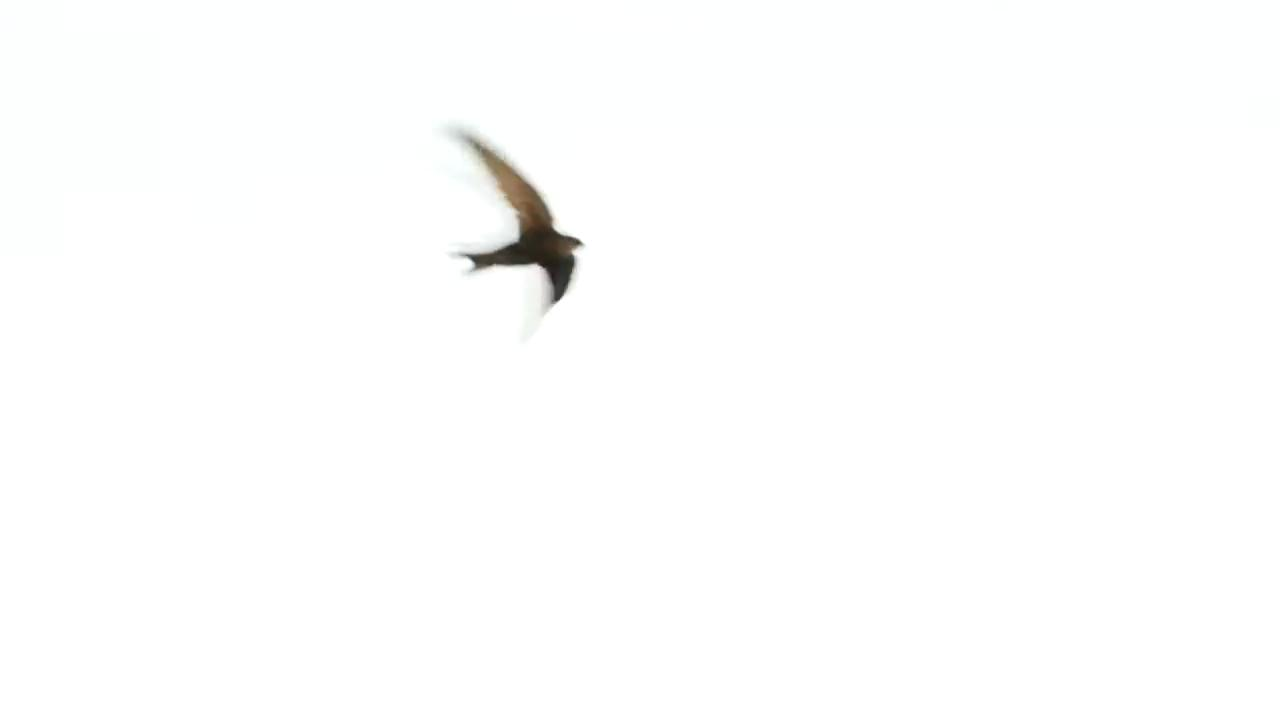Bird: (425, 104, 602, 344)
